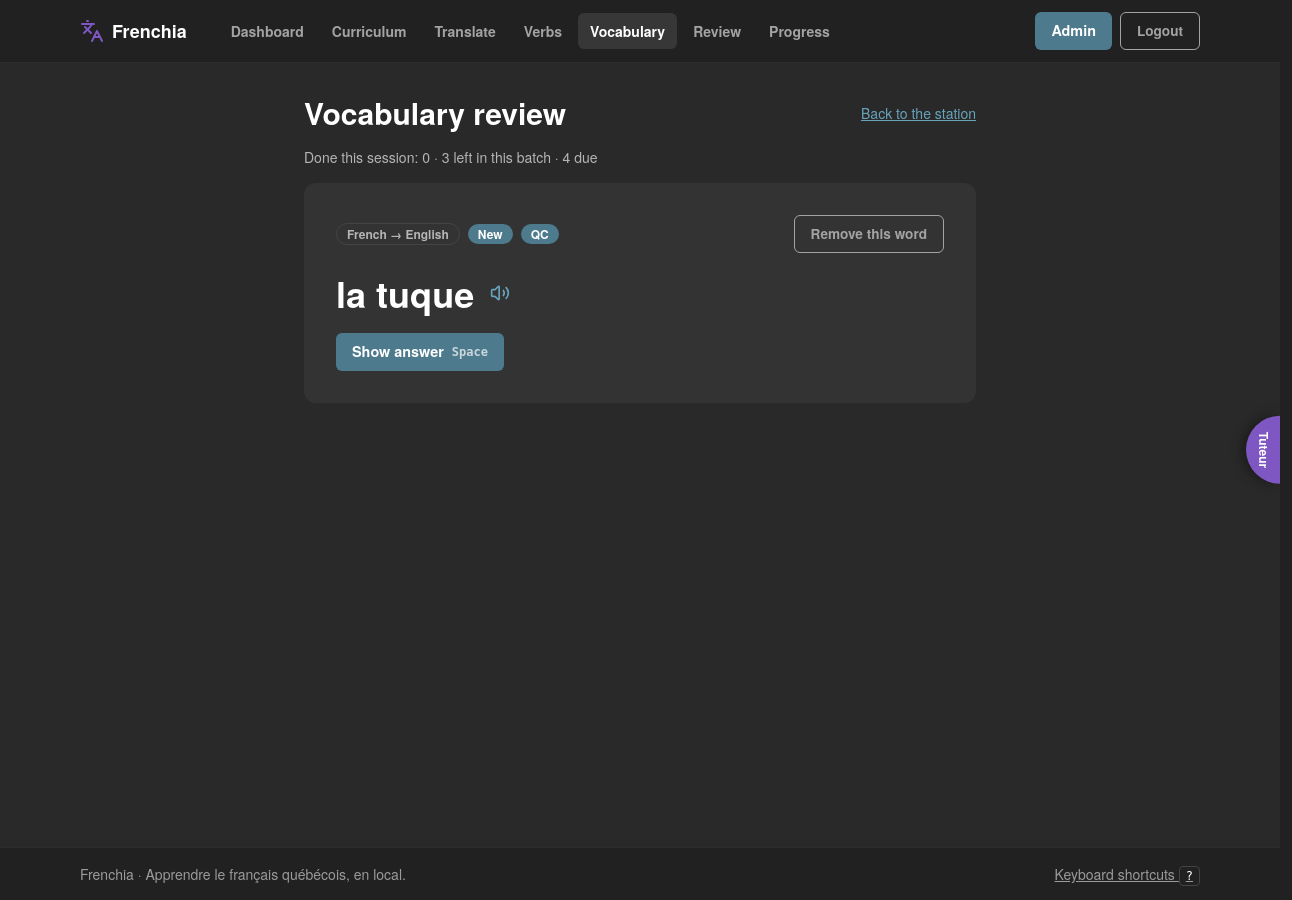
Test case: Vocabulary Station › removes a word, skips its other direction in the batch, and undoes
expect the text "la tuque" is shown: met, box [336, 273, 474, 313]
Click the button "Remove this word": (869, 234) [794, 215, 944, 253]
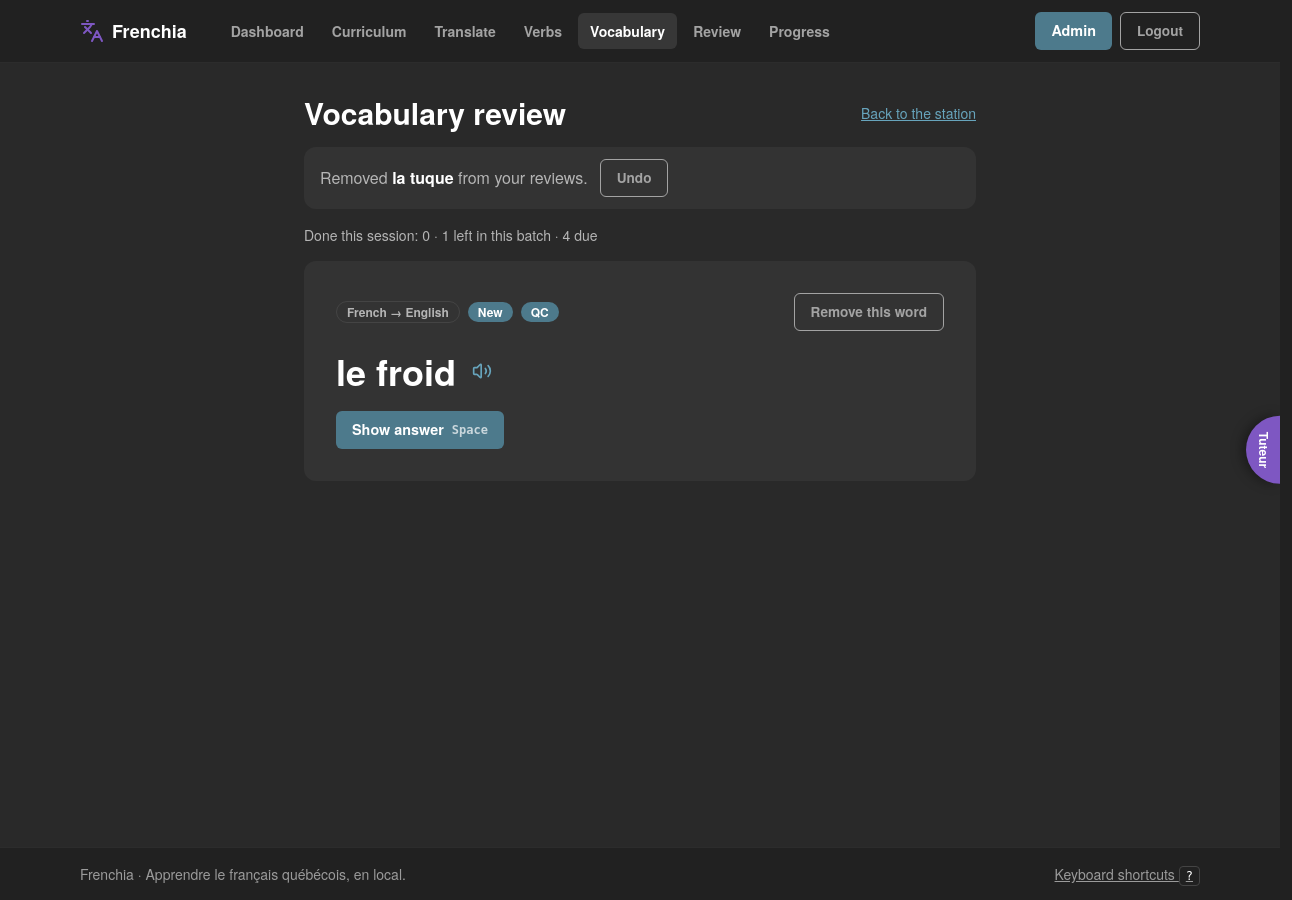
expect the text "le froid" is shown: met, box [336, 351, 456, 391]
expect the text "Done this session: 0 · 1 left in this batch · 4 due" is shown: met, box [304, 225, 598, 245]
expect the message shows "Removed la tuque from your reviews.": met, box [304, 147, 976, 209]
Click the button "Undo": (634, 178) [600, 159, 668, 197]
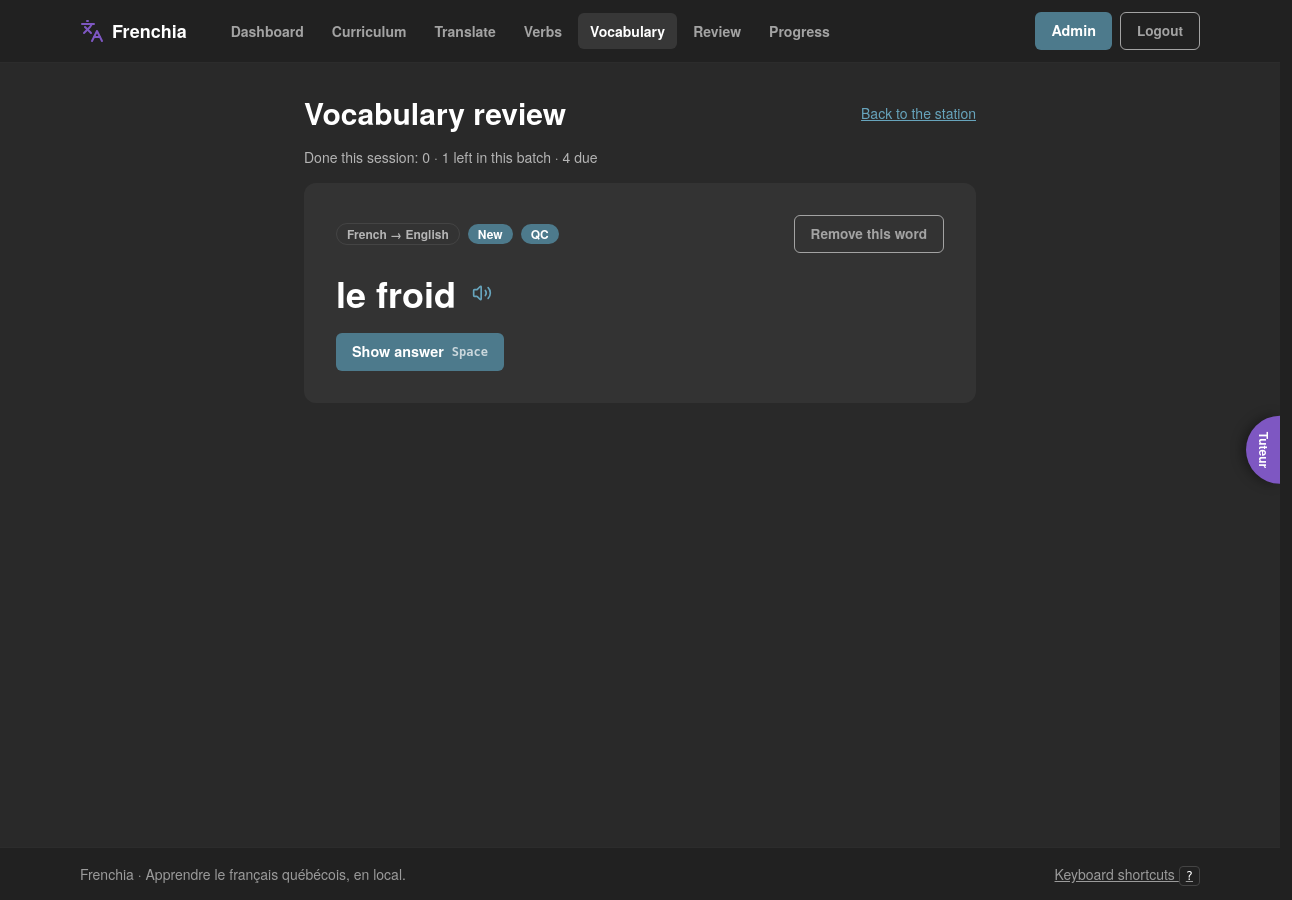
expect the button "Undo" is gone: met
